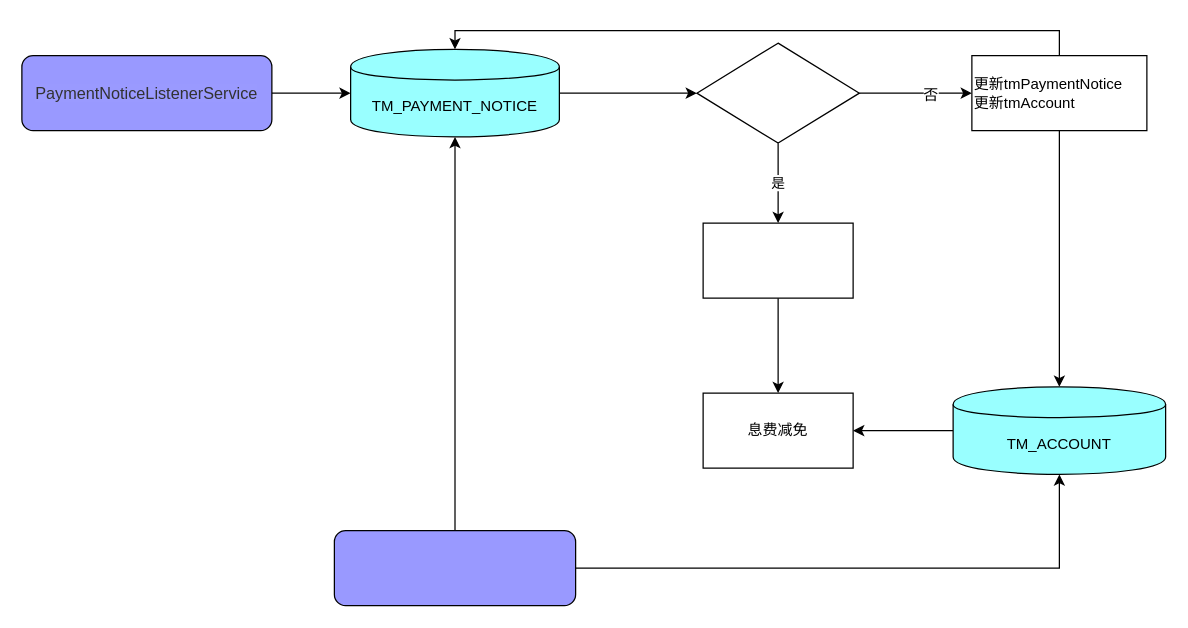
The diagram is 1188 pixels wide and 628 high, and some of its shapes have lost their labels. Here are the shapes that lost their labels. From the top down, the centre of each, then its label:
pixel 777 92: 批量正在运行
pixel 777 260: 不处理
pixel 454 567: 定时器 PaymentNoticeResultService
